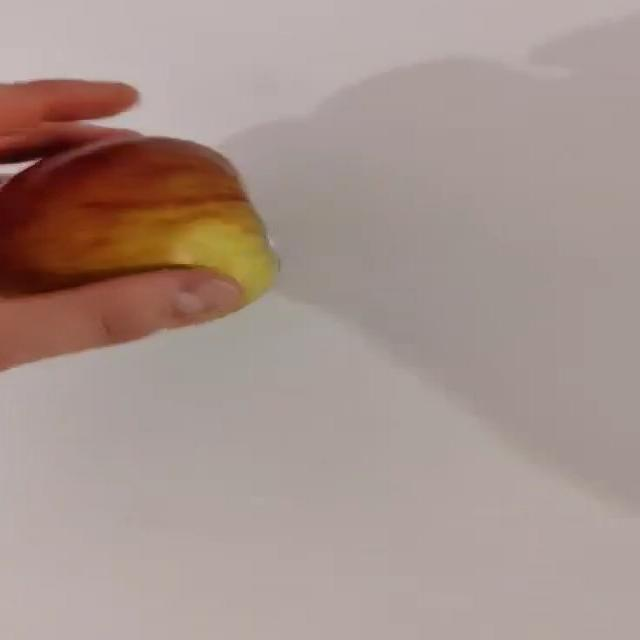Apple: (0, 133, 280, 313)
